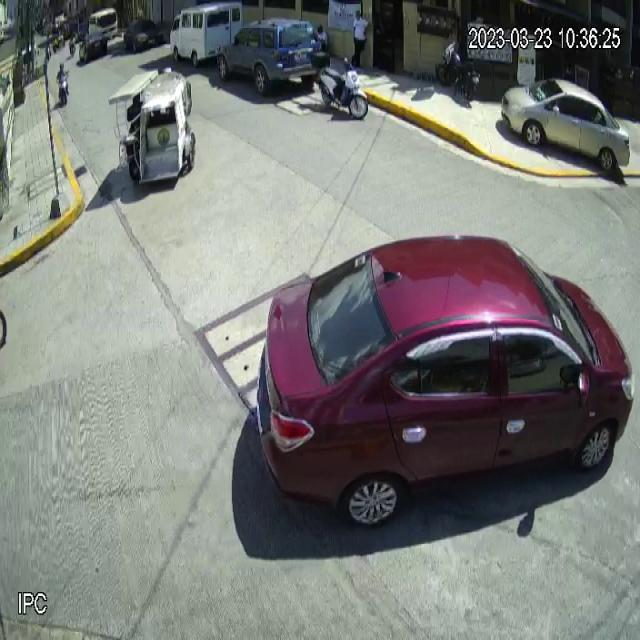Car: (257, 234, 635, 526), (501, 78, 632, 173), (217, 17, 323, 89)
Motorcycle: (310, 48, 368, 122)
Tricycle: (109, 68, 196, 187)
Van: (170, 1, 242, 67)
